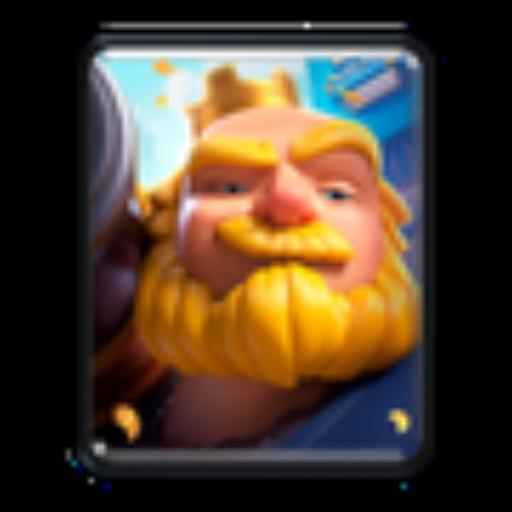royal-giant: (82, 52, 424, 466)
